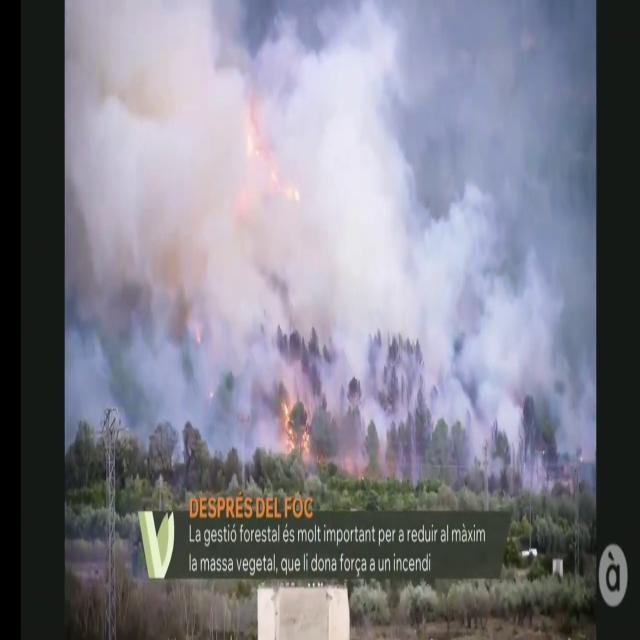Smoke: (64, 0, 598, 490)
